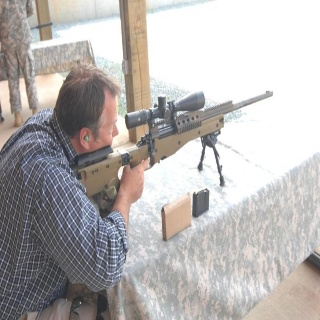rifle: (70, 88, 275, 193)
